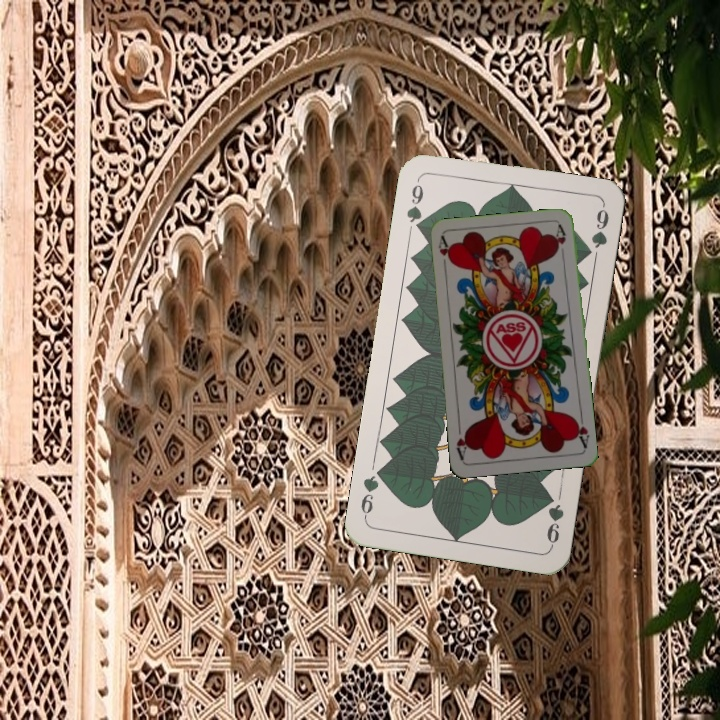G9: (542, 489, 567, 549), (402, 175, 426, 235)
HA: (570, 410, 592, 450), (434, 233, 454, 274)
